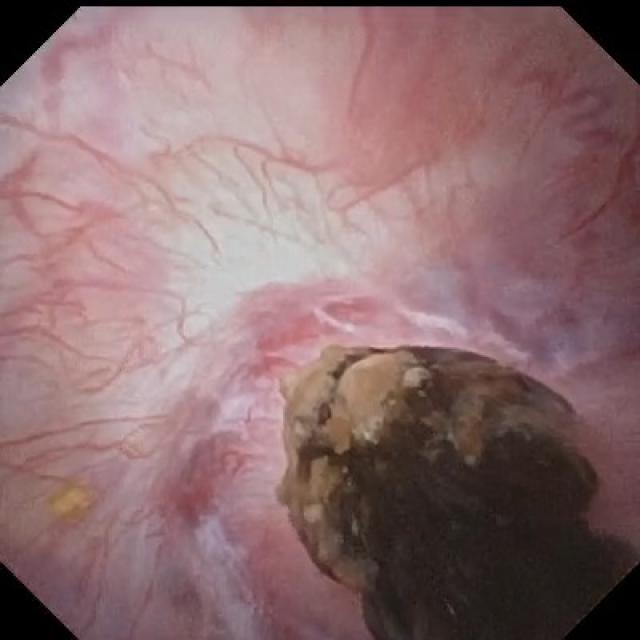stone-new: (278, 347, 629, 638)
